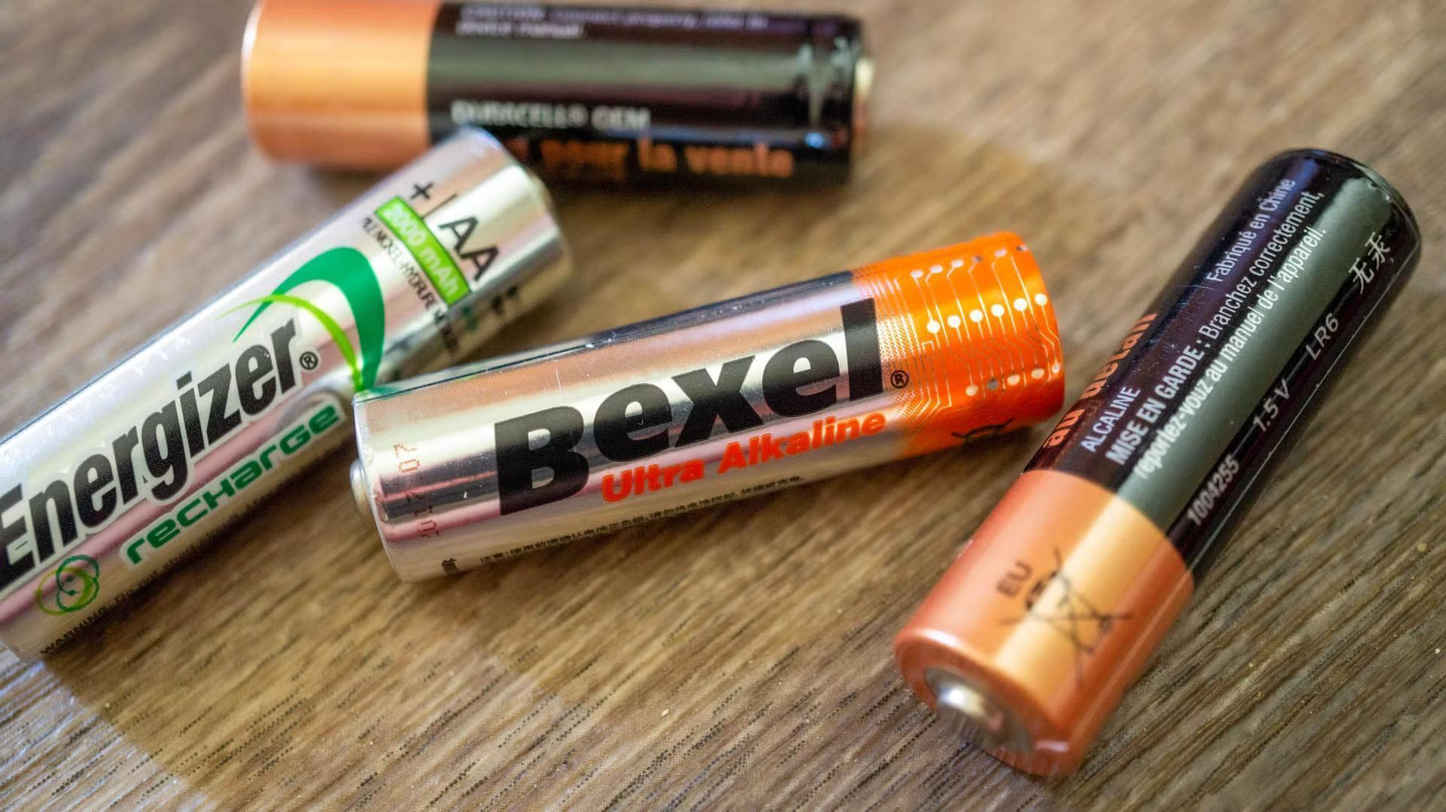AA: (888, 145, 1431, 787), (0, 119, 580, 673), (348, 223, 1067, 594), (236, 0, 878, 200)
